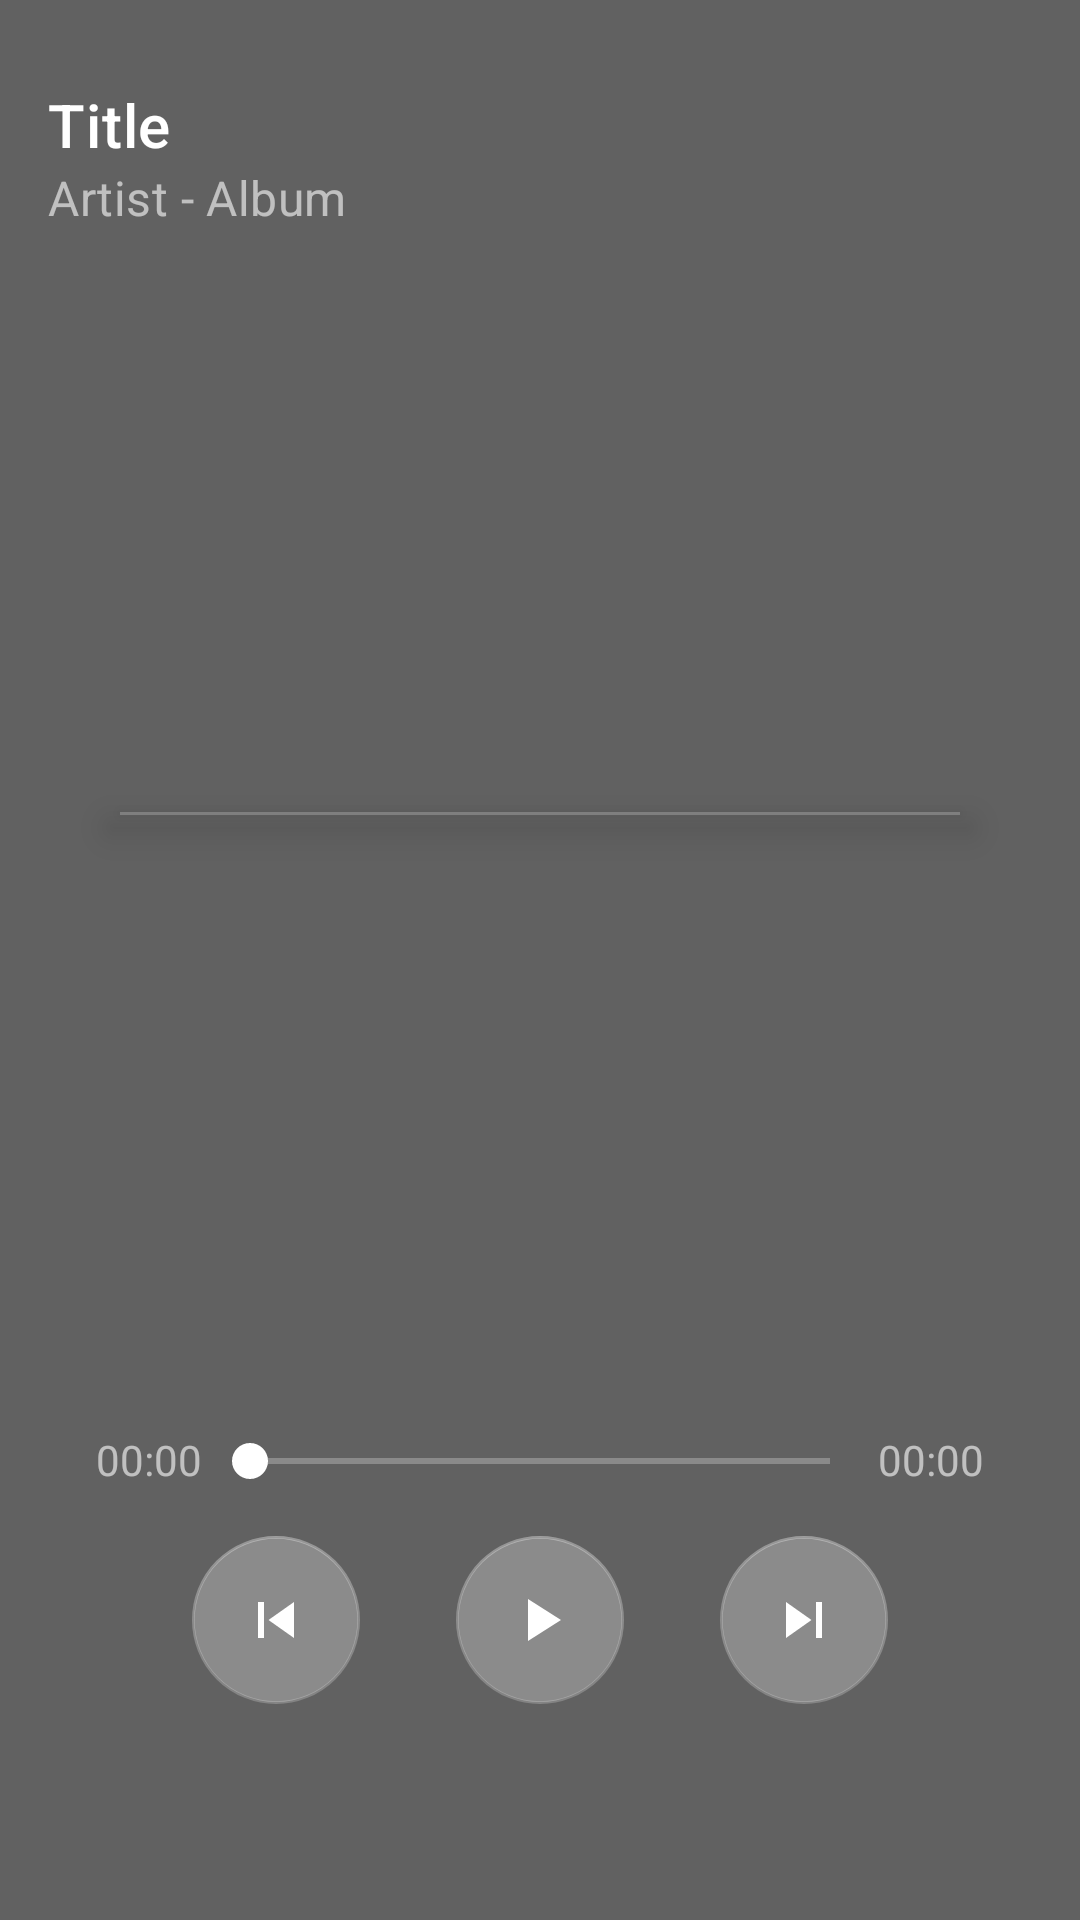

Icons on this 1080×1920 Android screen, each with its box as (x1, y1, x2, y2):
next: (720, 1536, 888, 1704)
play: (456, 1536, 624, 1704)
previous: (192, 1536, 360, 1704)
